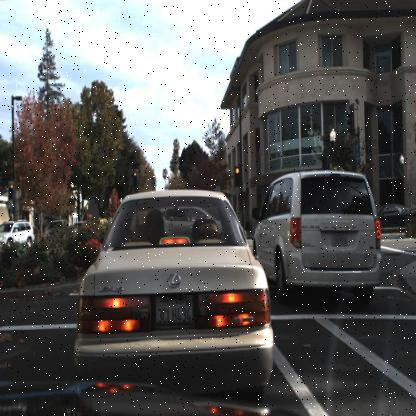car: (76, 185, 269, 385), (252, 167, 381, 303), (373, 200, 413, 235), (0, 219, 36, 247), (0, 219, 35, 247)
trafficLight-Red: (233, 165, 241, 188), (8, 180, 15, 200), (131, 169, 138, 188)
